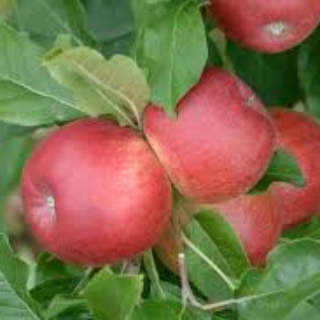tao: (17, 115, 176, 274), (141, 65, 277, 204)
